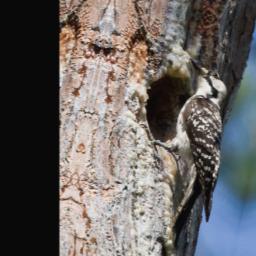Woodpecker: (131, 49, 248, 256)
